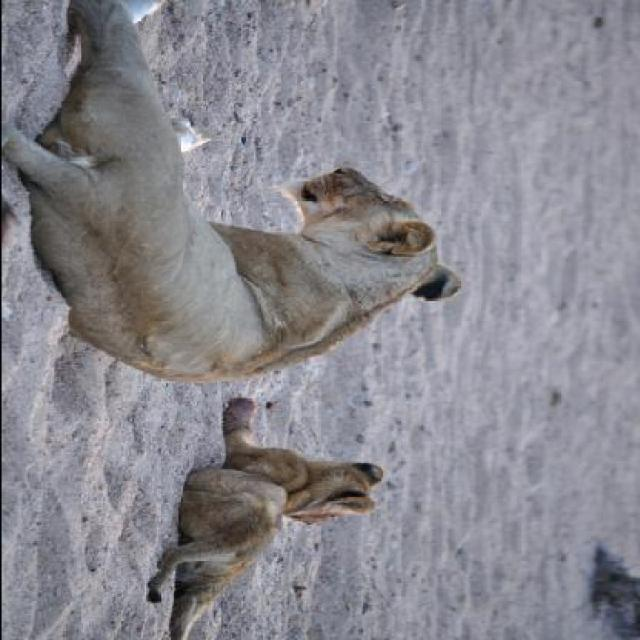Lion: (1, 5, 494, 388), (70, 391, 408, 638)
